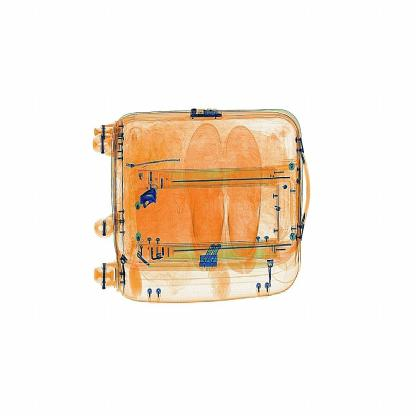knife: (137, 183, 164, 208)
